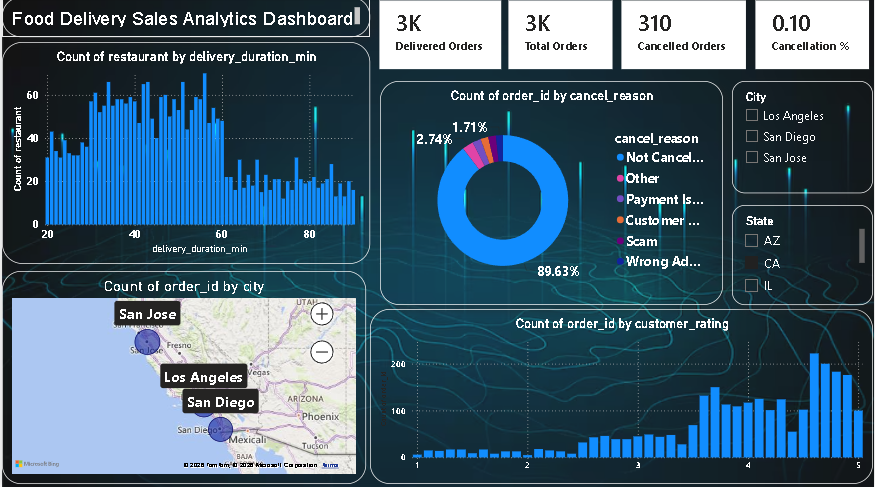

This screenshot's page, from the dashboard's own definition file:
{"tool":"powerbi","page":{"name":"Page 1","canvas":[1280,720],"ordinal":0},"visuals":[{"type":"textbox","box":[0,0,540.9,58.8],"z":0},{"type":"cardVisual","fields":{"Data":["food_delivery food_delivery_orders.Total Orders"]},"box":[739.1,0,163.1,111.7],"z":1000},{"type":"cardVisual","fields":{"Data":["food_delivery food_delivery_orders.Cancellation %"]},"box":[1102,0,177.8,111.7],"z":2000},{"type":"cardVisual","fields":{"Data":["food_delivery food_delivery_orders.Cancelled Orders"]},"box":[905.1,0,194,111.7],"z":3000},{"type":"cardVisual","fields":{"Data":["food_delivery food_delivery_orders.Delivered Orders"]},"box":[549.6,0,189.6,111.7],"z":4000},{"type":"map","fields":{"Category":["food_delivery food_delivery_orders.city"],"Size":["CountNonNull(food_delivery food_delivery_orders.order_id)"]},"box":[0,402.6,534.9,313],"z":5000},{"type":"donutChart","fields":{"Category":["food_delivery food_delivery_orders.cancel_reason"],"Y":["CountNonNull(food_delivery food_delivery_orders.order_id)"]},"box":[555.4,123.4,504,329.1],"z":6000},{"type":"clusteredColumnChart","fields":{"Category":["food_delivery food_delivery_orders.customer_rating"],"Y":["CountNonNull(food_delivery food_delivery_orders.order_id)"]},"box":[540.7,458.4,739.1,257.1],"z":7000},{"type":"columnChart","fields":{"Y":["CountNonNull(food_delivery food_delivery_orders.restaurant)"],"Category":["food_delivery food_delivery_orders.delivery_duration_min"]},"box":[0,66.1,540.7,326.2],"z":8000},{"type":"slicer","fields":{"Values":["food_delivery food_delivery_orders.city"]},"box":[1072.7,123.4,207.2,164.6],"z":9000},{"type":"slicer","fields":{"Values":["food_delivery food_delivery_orders.state"]},"box":[1072.7,305.6,207.2,146.9],"z":10000}]}

Visuals, with their boxes in screenshot pixels (x1, y1, x2, y2), scaled from the page's 1280x720 canvas onto the 875x487 screenshot:
textbox: 0,0,370,40
cardVisual - food_delivery food_delivery_orders.Total Orders: 505,0,617,76
cardVisual - food_delivery food_delivery_orders.Cancellation %: 753,0,874,76
cardVisual - food_delivery food_delivery_orders.Cancelled Orders: 619,0,751,76
cardVisual - food_delivery food_delivery_orders.Delivered Orders: 376,0,505,76
map - food_delivery food_delivery_orders.city x CountNonNull(food_delivery food_delivery_orders.order_id): 0,272,366,484
donutChart - food_delivery food_delivery_orders.cancel_reason x CountNonNull(food_delivery food_delivery_orders.order_id): 380,83,724,306
clusteredColumnChart - food_delivery food_delivery_orders.customer_rating x CountNonNull(food_delivery food_delivery_orders.order_id): 370,310,874,484
columnChart - CountNonNull(food_delivery food_delivery_orders.restaurant) x food_delivery food_delivery_orders.delivery_duration_min: 0,45,370,265
slicer - food_delivery food_delivery_orders.city: 733,83,874,195
slicer - food_delivery food_delivery_orders.state: 733,207,874,306
